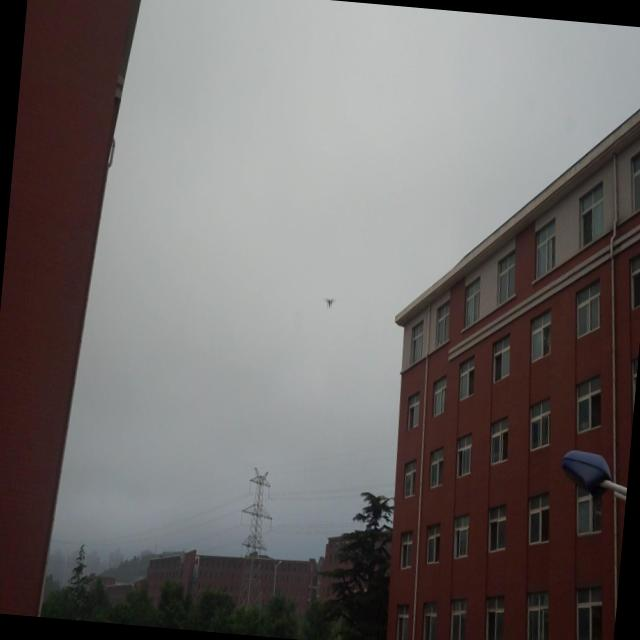drone: (321, 292, 337, 311)
